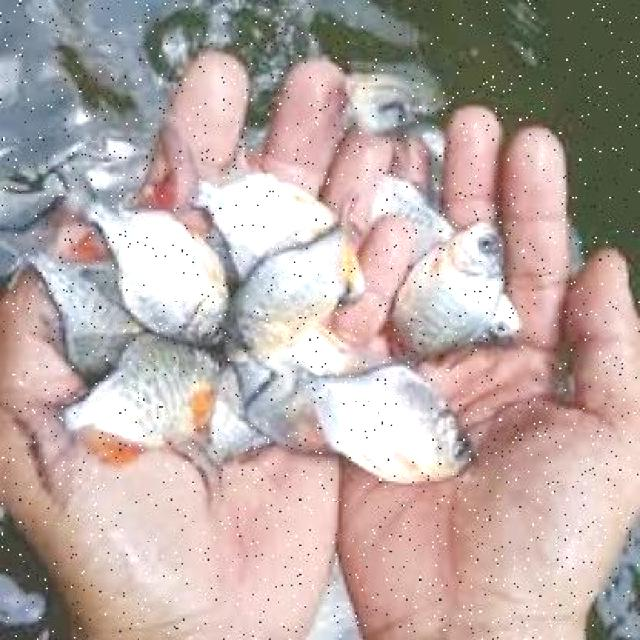ikan-pacu: (87, 188, 233, 342), (302, 354, 476, 480), (66, 342, 211, 464), (386, 215, 506, 360), (238, 228, 356, 348)
